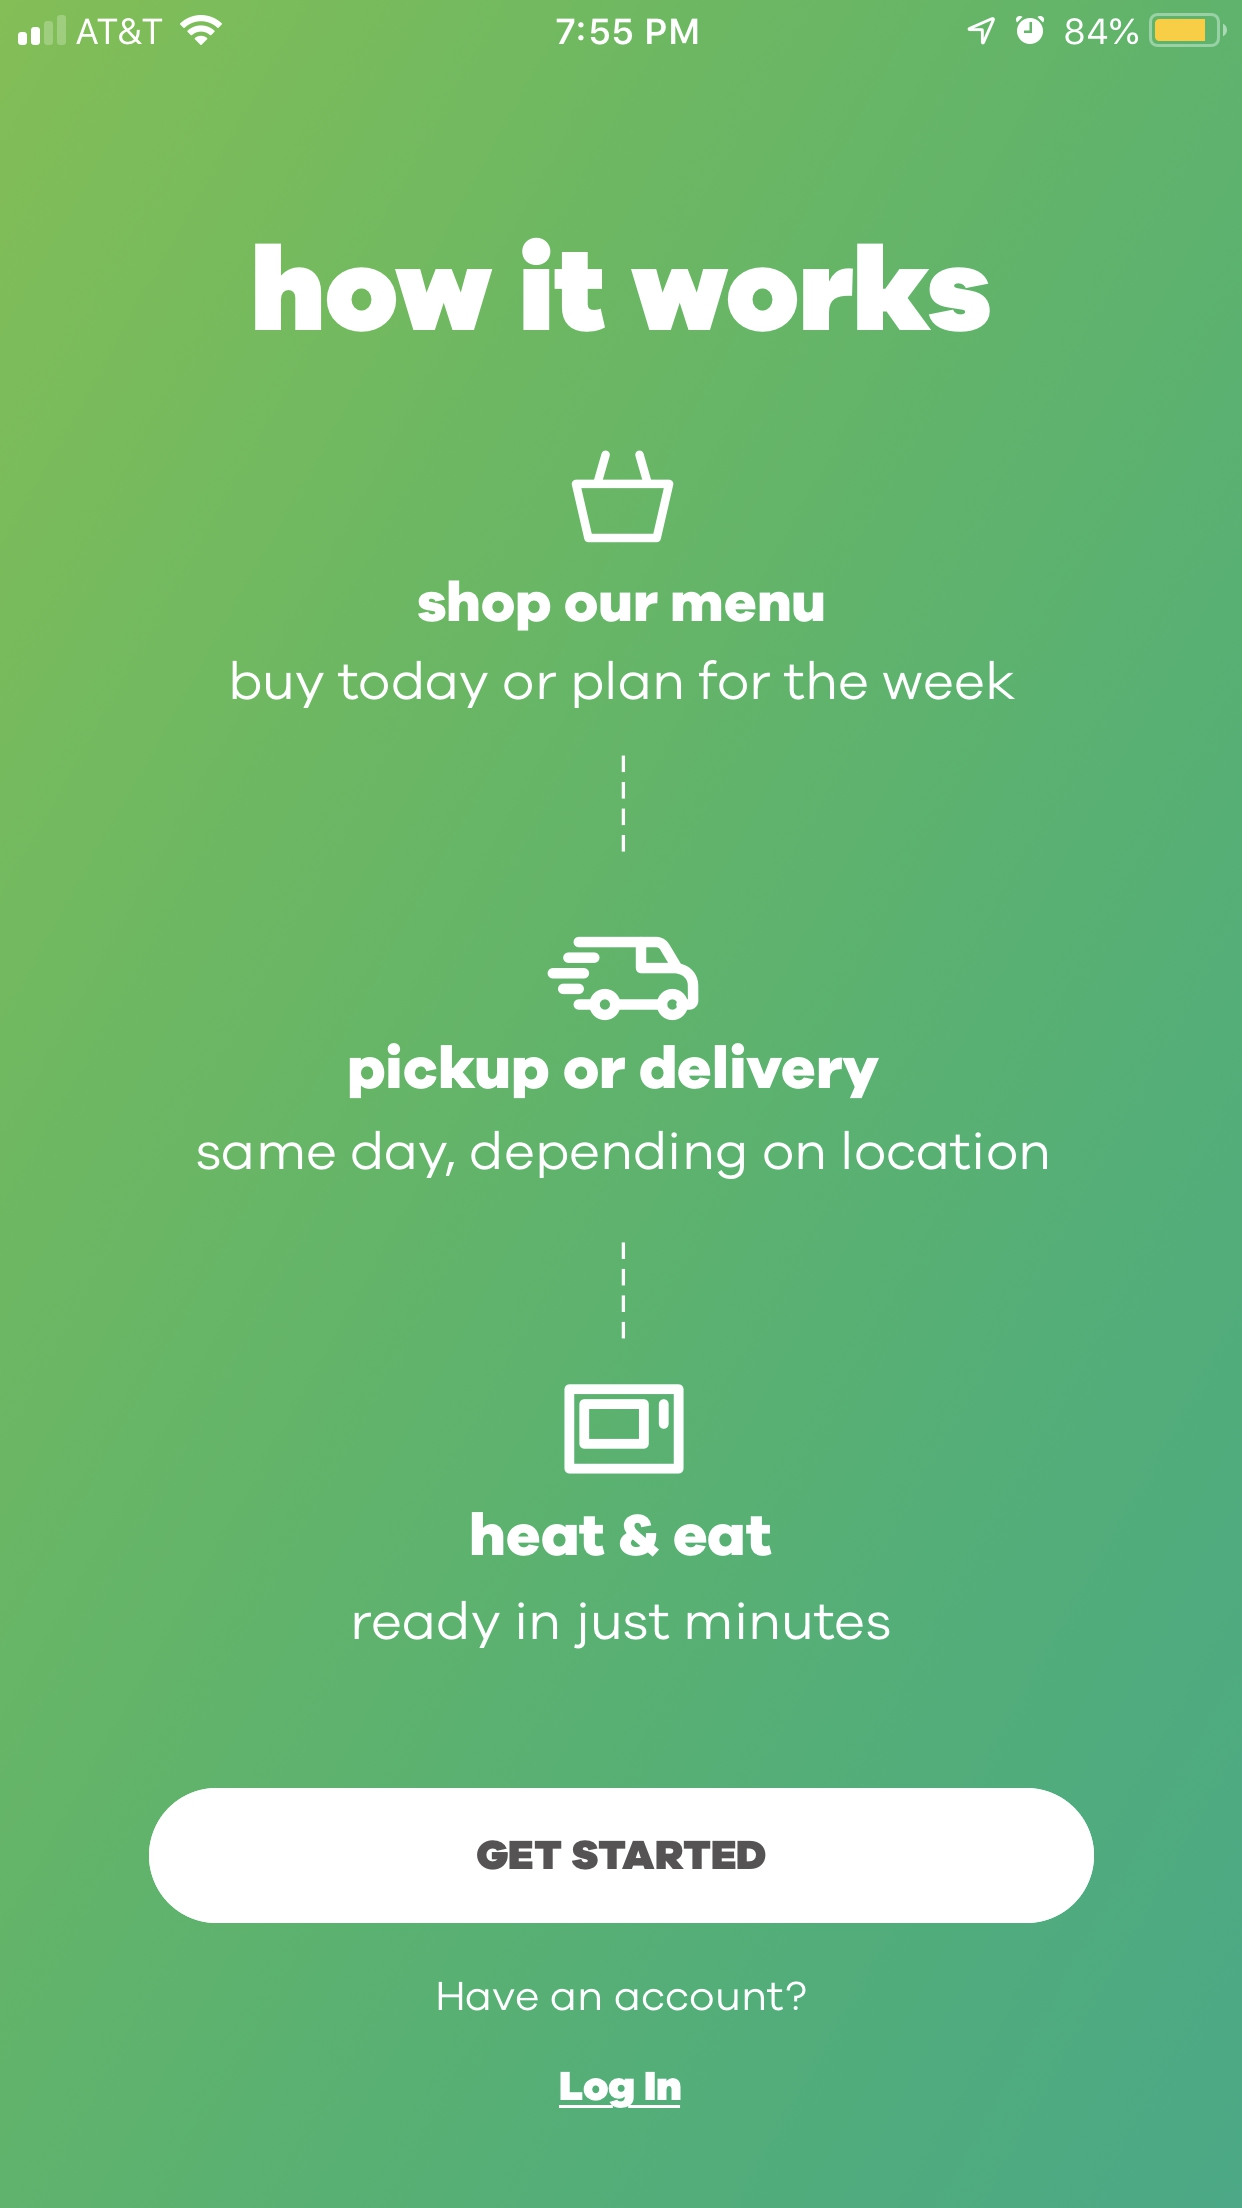Icon: (564, 1383, 685, 1476), (572, 450, 675, 544)
Image: (547, 936, 701, 1022)
Text: (253, 238, 990, 334), (197, 1130, 1049, 1178), (232, 660, 1016, 710), (350, 1042, 881, 1099), (353, 1600, 892, 1650), (419, 579, 825, 632), (472, 1512, 773, 1557), (438, 1981, 807, 2012), (558, 2072, 682, 2109)
TextButton: (149, 1786, 1095, 1924)
UpperTaskBar: (2, 2, 1242, 49)
